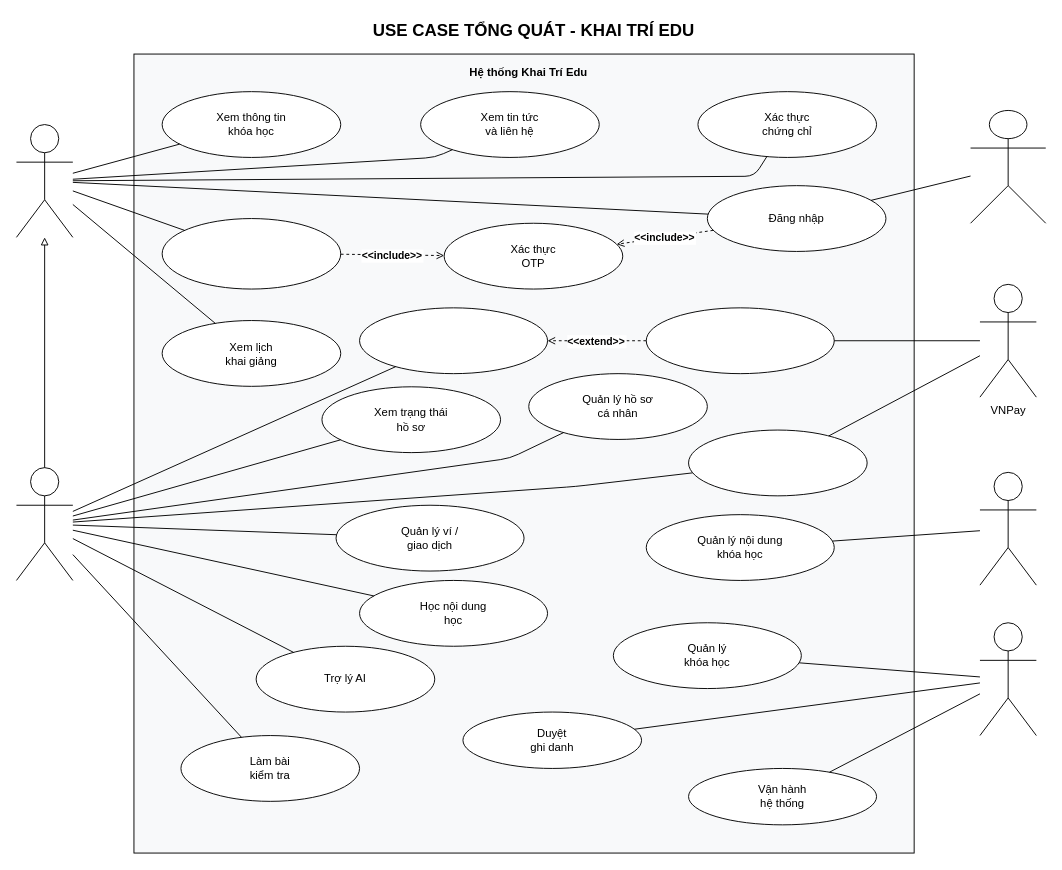
Some shapes in this 1062 by 870 pixel diagram are drawn without their labels. The shapes that lost their labels are listed below. From the top down, each one's box as (x1, y1, x2, y2) in pixels, then its label:
(16, 124, 73, 237): Khách
(970, 110, 1046, 223): Google / Facebook
(161, 218, 341, 289): Đăng ký tài khoản
(359, 307, 548, 374): Đăng ký khóa học
(645, 307, 834, 374): Thanh toán khóa học
(688, 429, 867, 496): Nạp ví điện tử
(16, 467, 73, 580): Học viên
(979, 471, 1036, 585): Giảng viên
(979, 622, 1036, 736): Quản trị viên
